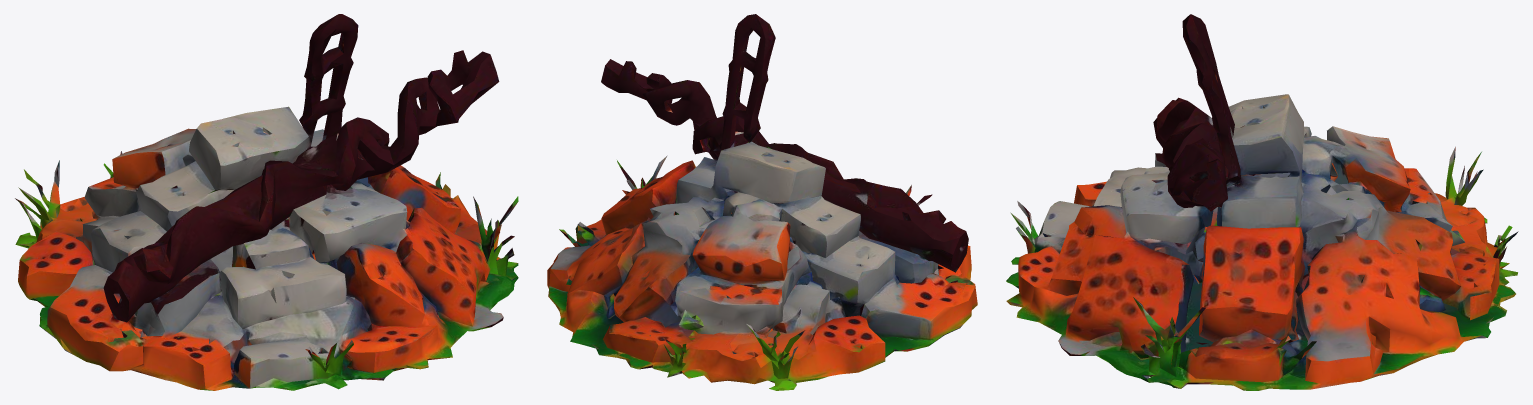
The model's file is ruin_rubble.glb.
The picture shows the model from 3 angles, left to right: view 1: azimuth 30°, elevation 25°; view 2: azimuth 150°, elevation 25°; view 3: azimuth 270°, elevation 25°; orthographic projection. The views are drawn at different scales.
Parts seen in each view (by area): view 1: ruin_rubble; view 2: ruin_rubble; view 3: ruin_rubble.
Part boxes in pixels (x1=…): ruin_rubble: x1=15, y1=14, x2=518, y2=390; ruin_rubble: x1=547, y1=14, x2=977, y2=390; ruin_rubble: x1=1006, y1=14, x2=1518, y2=390.
Bounding box in the file's own units: 0.9857 × 0.6261 × 1.
1 material, 1 textured.
